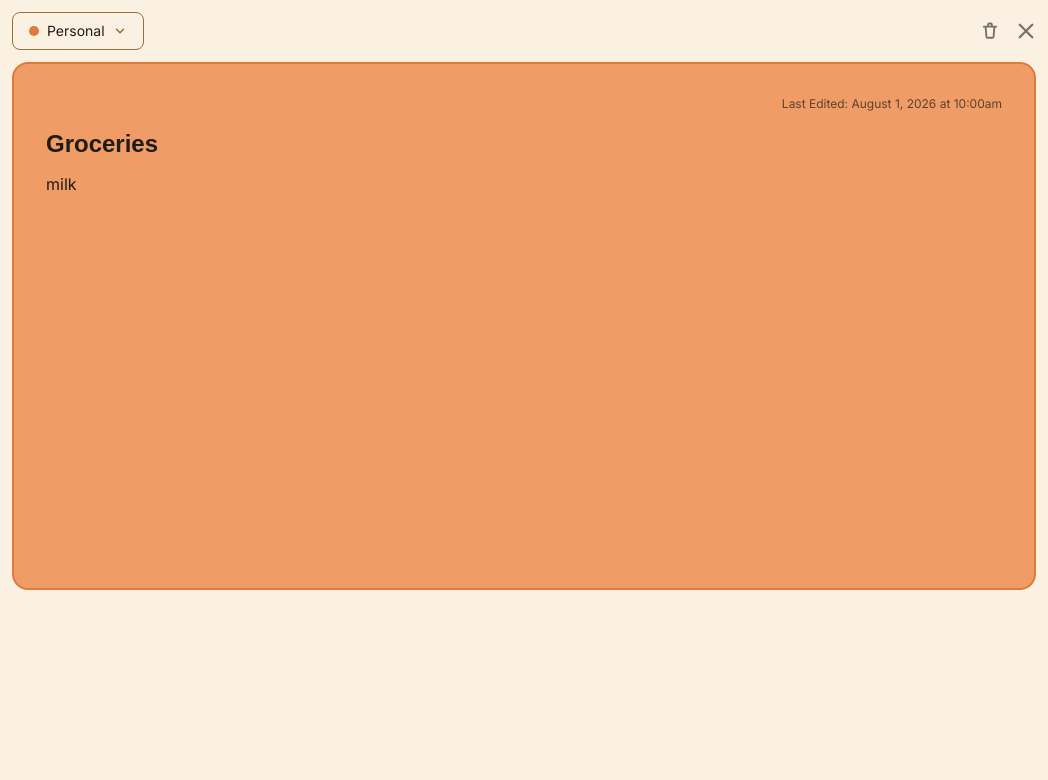
Scenario: NoteEditor categories › creates a category from the dropdown and files the note under it
This screenshot has width=1048, height=780.
Click the button "Personal". click: (78, 31)
box: [12,12,144,50]
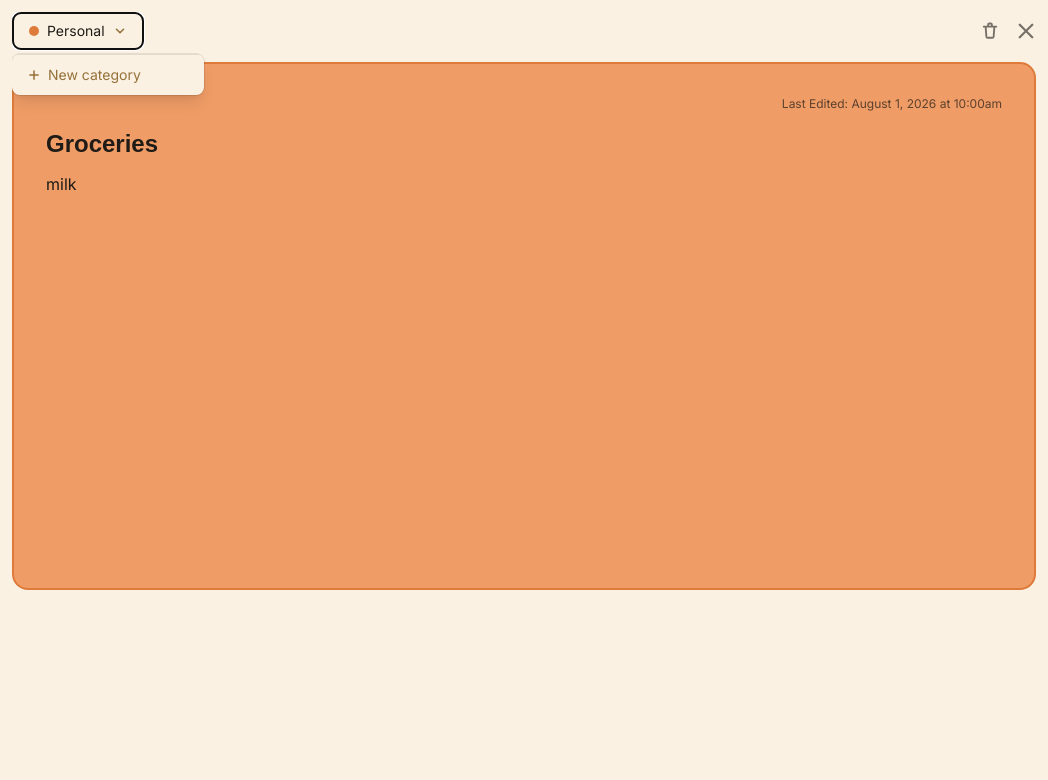
Click the button "New category". click: (108, 74)
box: [12,54,204,95]
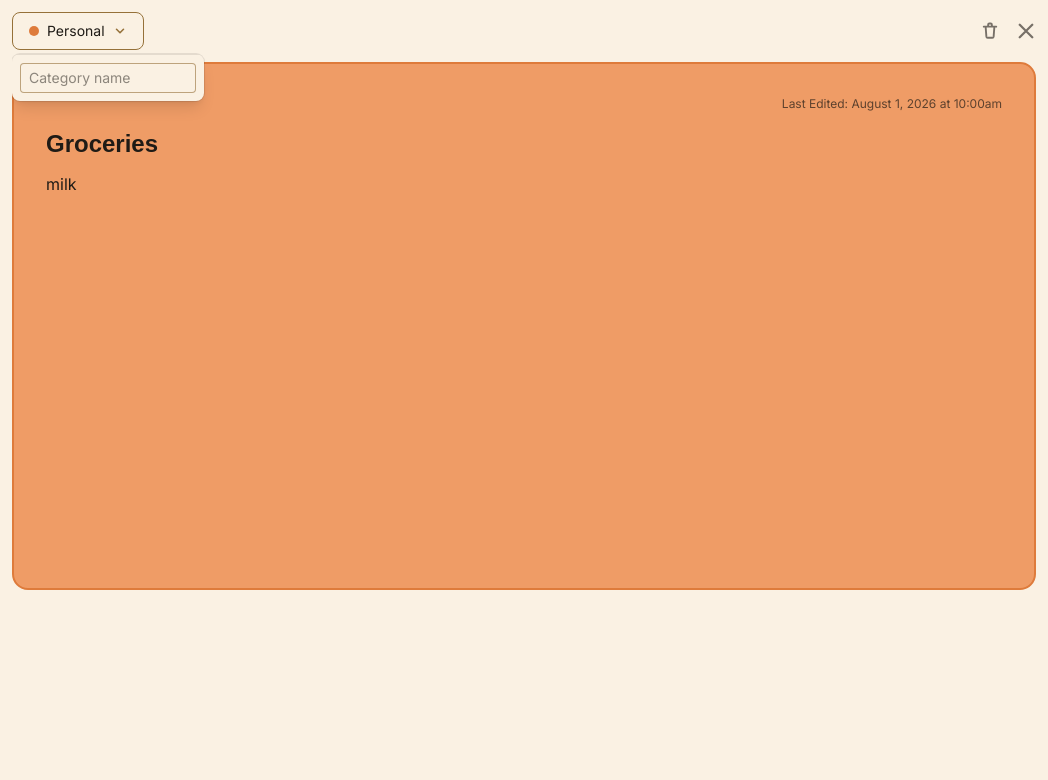
Type "Work" into the field named "New category name". click: (108, 78)
box: [20,63,196,93]
Then press Enter
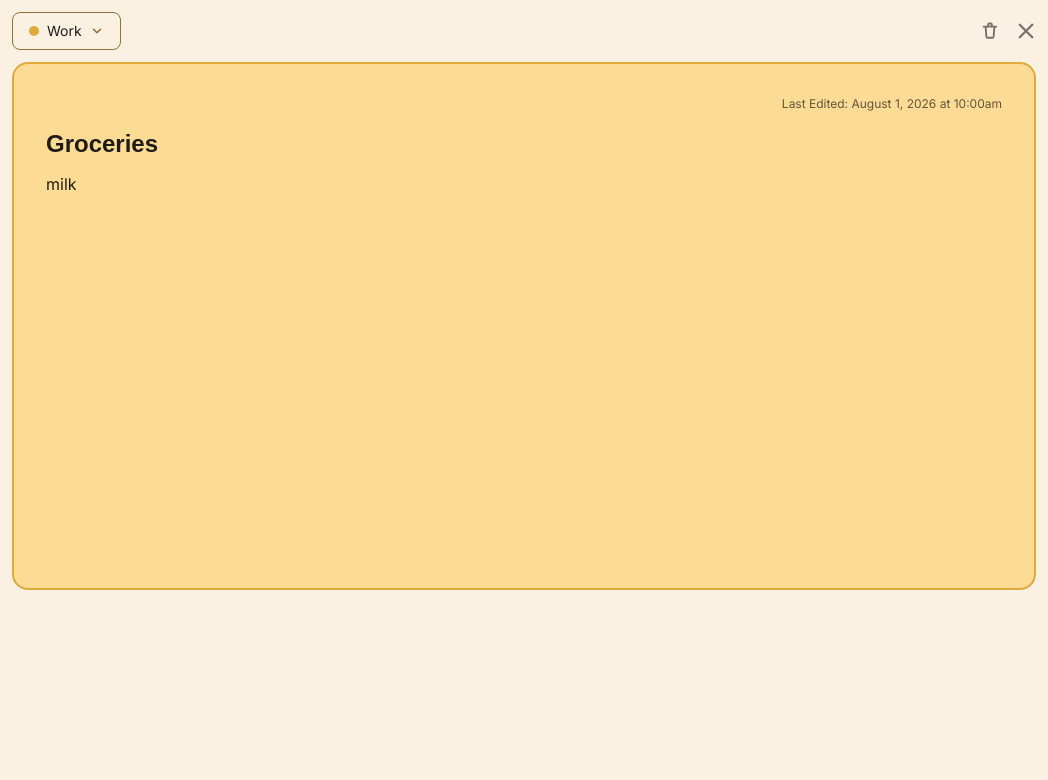
Expected: the button "Work" is shown, [12,12,121,50]
